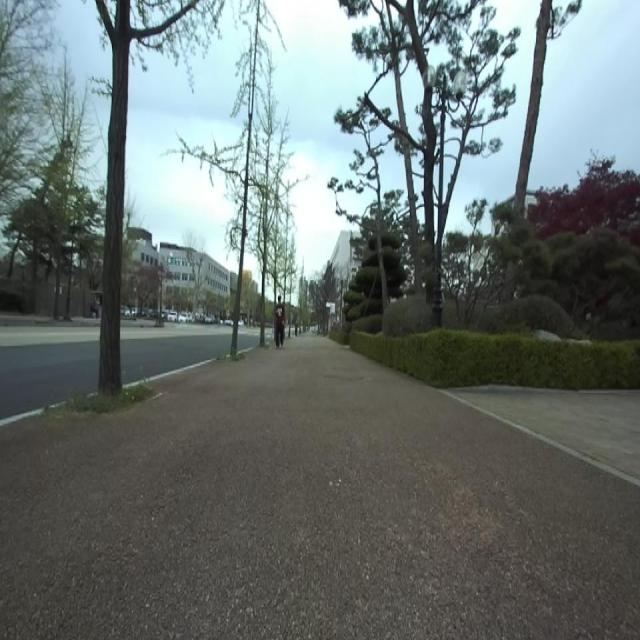sidewalk: (0, 338, 640, 639), (146, 358, 217, 381), (0, 408, 42, 426)
